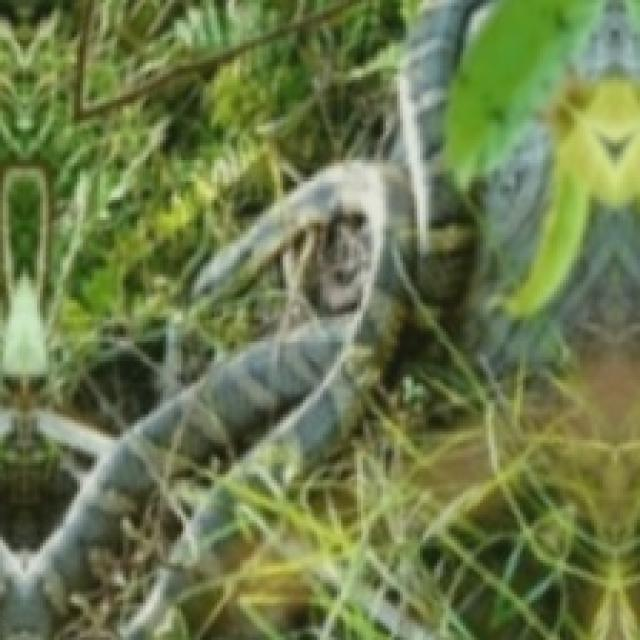king cobra: (0, 0, 637, 637), (0, 160, 409, 637), (194, 154, 420, 391), (297, 229, 343, 280)
